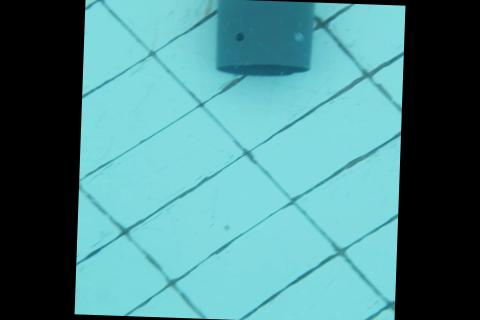kebocoran: (235, 30, 245, 41)
